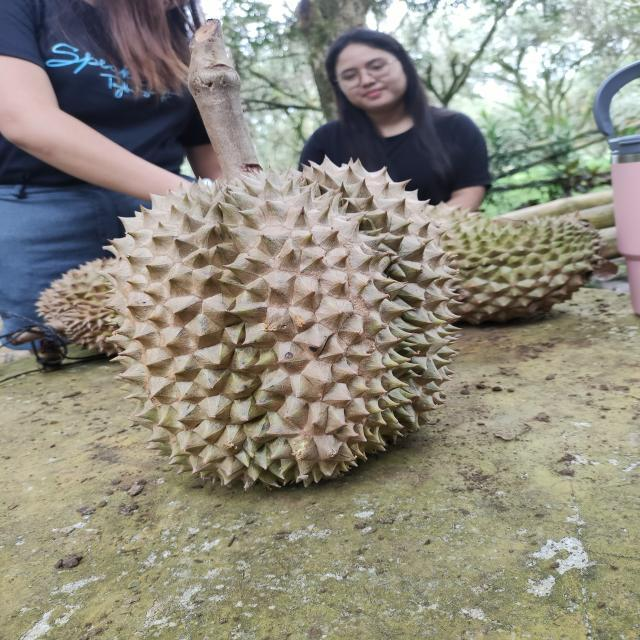mature: (102, 160, 457, 486)
